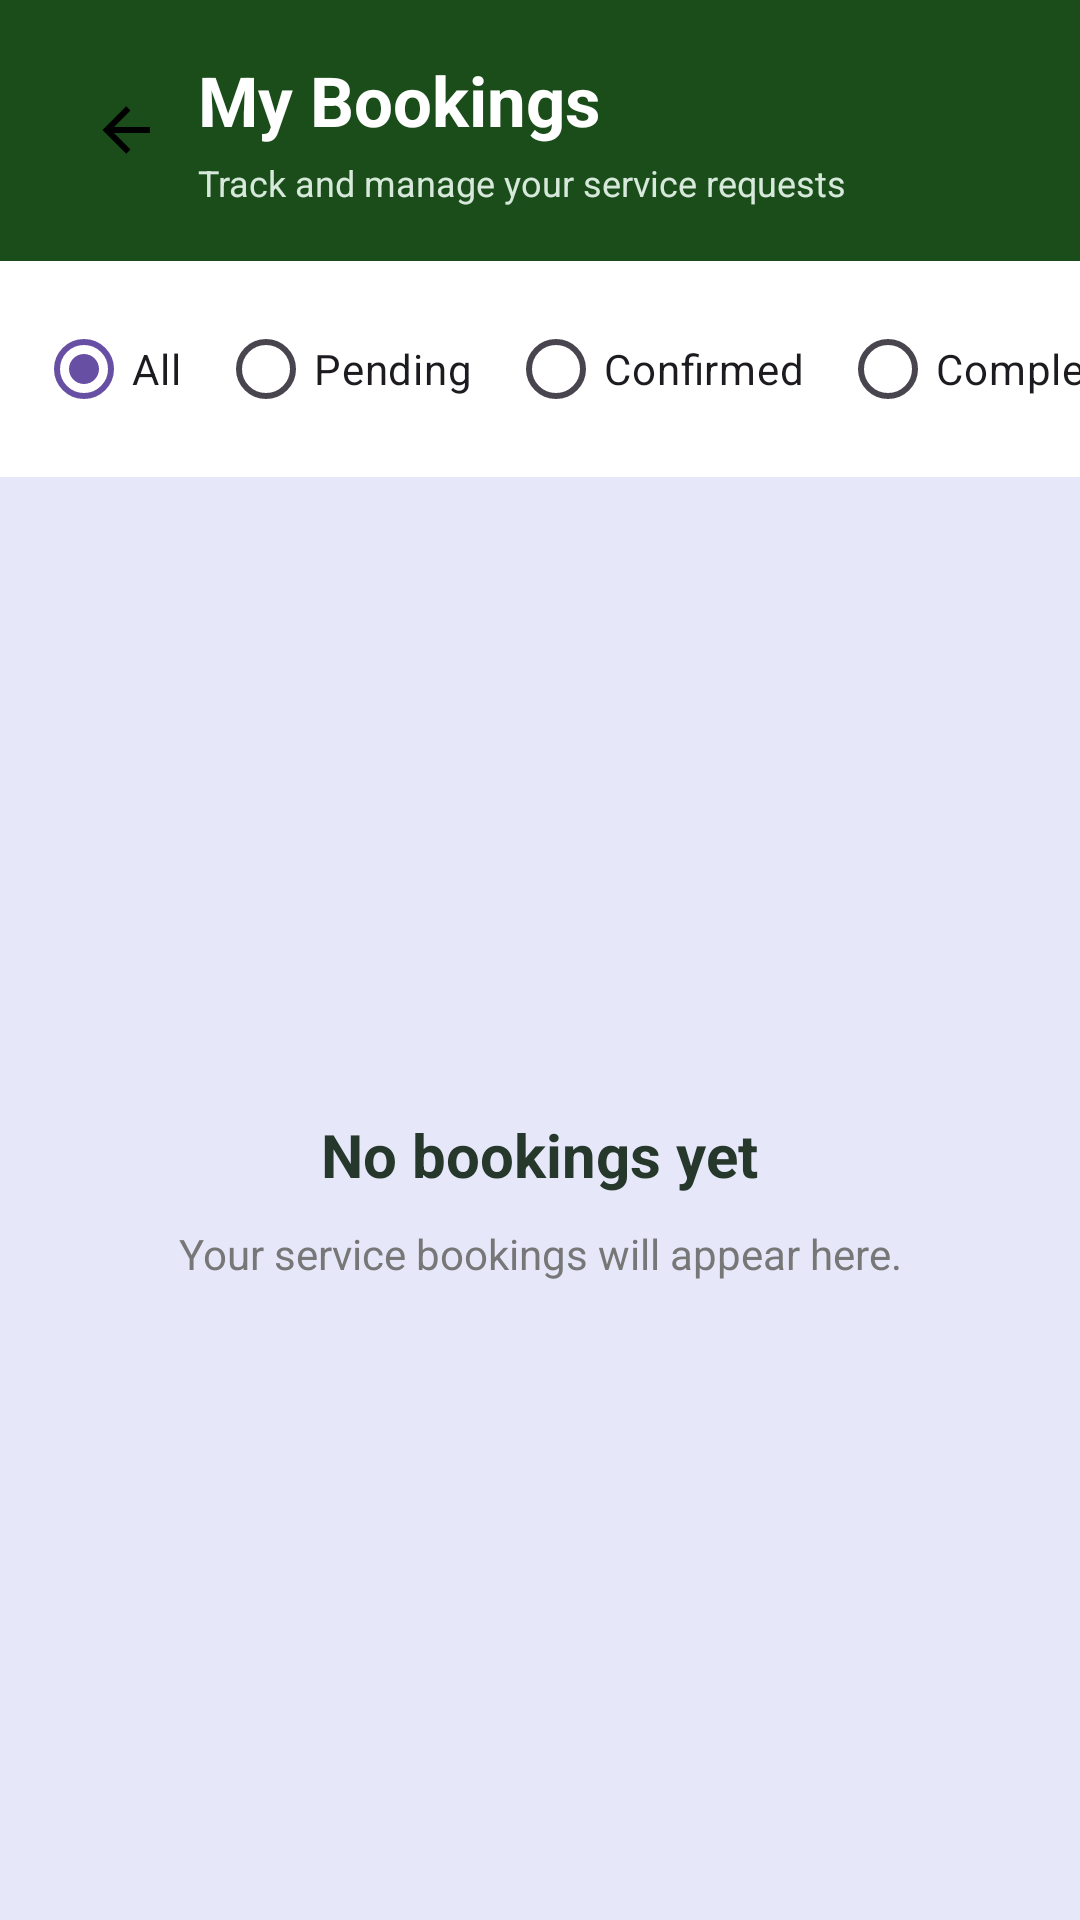

Icon bounding boxes for this 1080px x 1920px phone screenshot, format (x1, y1, x2, y2):
Go back: (103, 106, 150, 154)
